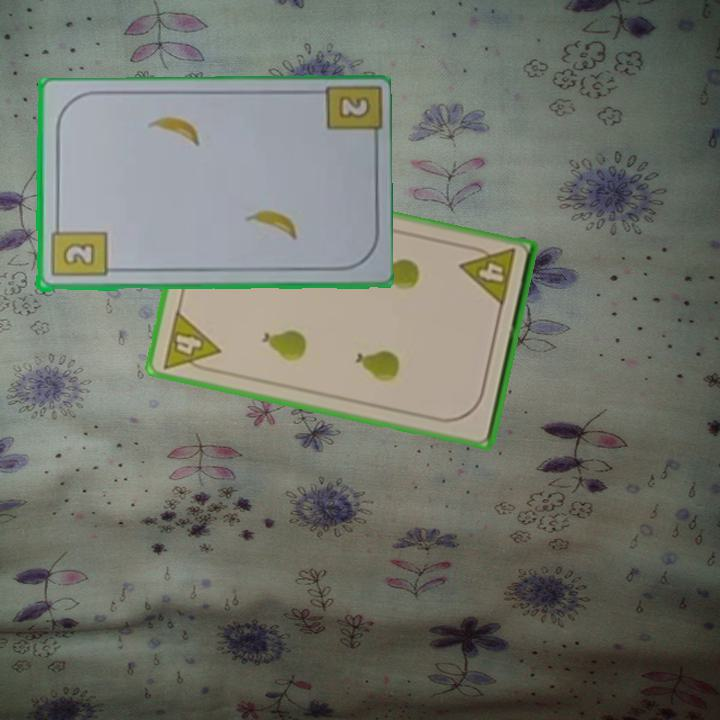2b: (47, 219, 109, 280), (335, 92, 374, 122)
4p: (158, 307, 223, 377), (457, 241, 518, 310)
